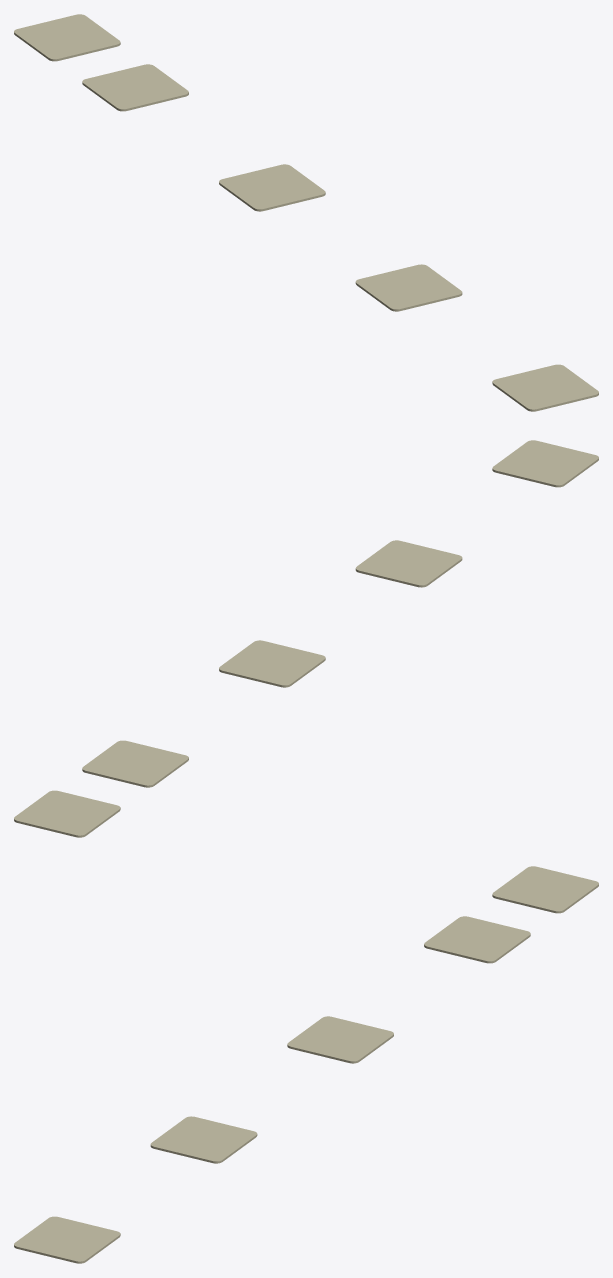
The model's file is AirCon01.FBX.
The picture shows the model from 3 angles, top to bottom: view 1: azimuth 30°, elevation 25°; view 2: azimuth 150°, elevation 25°; view 3: azimuth 330°, elevation 25°; orthographic projection.
Visible parts, largest first — view 1: AirCon4, AirCon1, AirCon5, AirCon3, AirCon2; view 2: AirCon4, AirCon1, AirCon5, AirCon3, AirCon2; view 3: AirCon4, AirCon1, AirCon5, AirCon3, AirCon2.
Part boxes in pixels (x1,y1,x2,y2): AirCon4: (492,364,598,411); AirCon1: (14,14,120,61); AirCon5: (355,264,462,311); AirCon3: (82,64,188,111); AirCon2: (219,164,325,211); AirCon4: (492,440,598,487); AirCon1: (14,790,120,837); AirCon5: (355,540,462,587); AirCon3: (82,740,188,787); AirCon2: (219,640,325,687); AirCon4: (14,1216,120,1263); AirCon1: (492,866,598,913); AirCon5: (150,1116,257,1163); AirCon3: (424,916,530,963); AirCon2: (287,1016,393,1063).
Size of the model in its own units: 0.4593 by 0.023 by 5.83.
